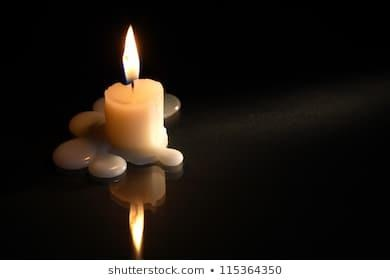fire: (119, 22, 141, 82), (128, 205, 146, 255)
